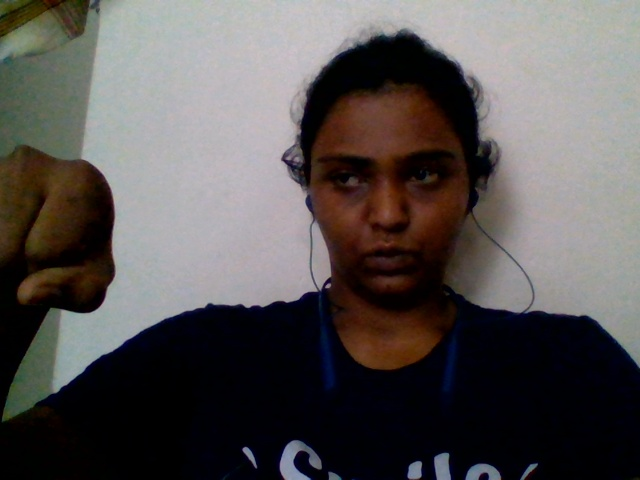Yes: (16, 135, 131, 348)
